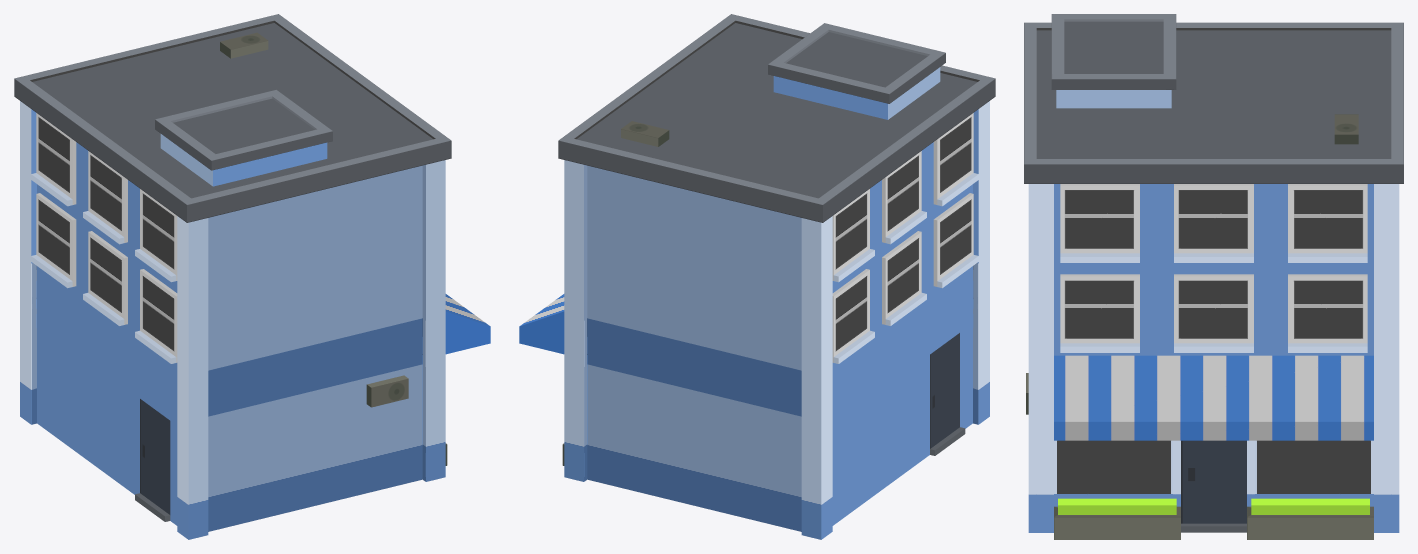
Rendered from shop_house_1.glb.
The picture shows the model from 3 angles, left to right: view 1: azimuth 30°, elevation 25°; view 2: azimuth 150°, elevation 25°; view 3: azimuth 270°, elevation 25°; orthographic projection. The views are drawn at different scales.
Parts seen in each view (by area): view 1: shop_classic_mesh; view 2: shop_classic_mesh; view 3: shop_classic_mesh.
Boxes of the visible parts, x1,y1,x2,y2 form: shop_classic_mesh: (14,14,490,539); shop_classic_mesh: (519,14,995,539); shop_classic_mesh: (1024,14,1403,539).
Size of the model in its own units: 0.1232 by 0.1348 by 0.1163.
Materials: 1 (1 with a texture image).
